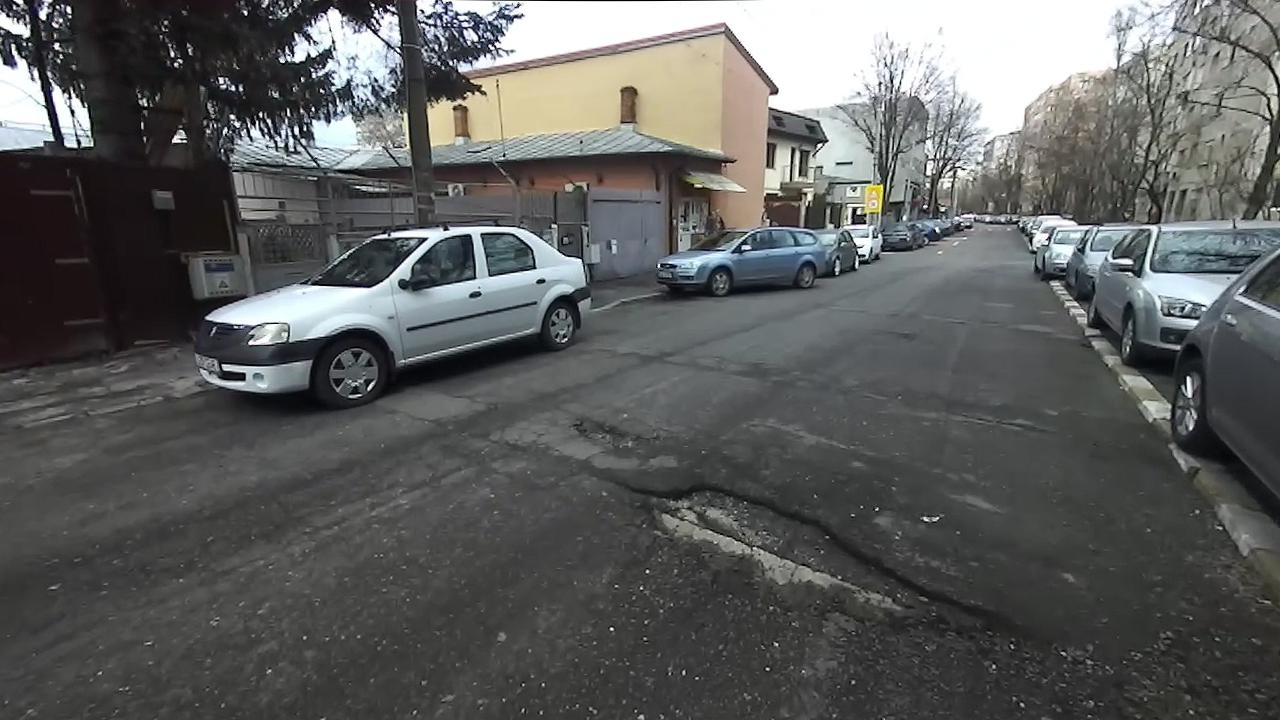pothole: (604, 477, 1021, 643), (564, 410, 669, 451), (949, 406, 1053, 438)
